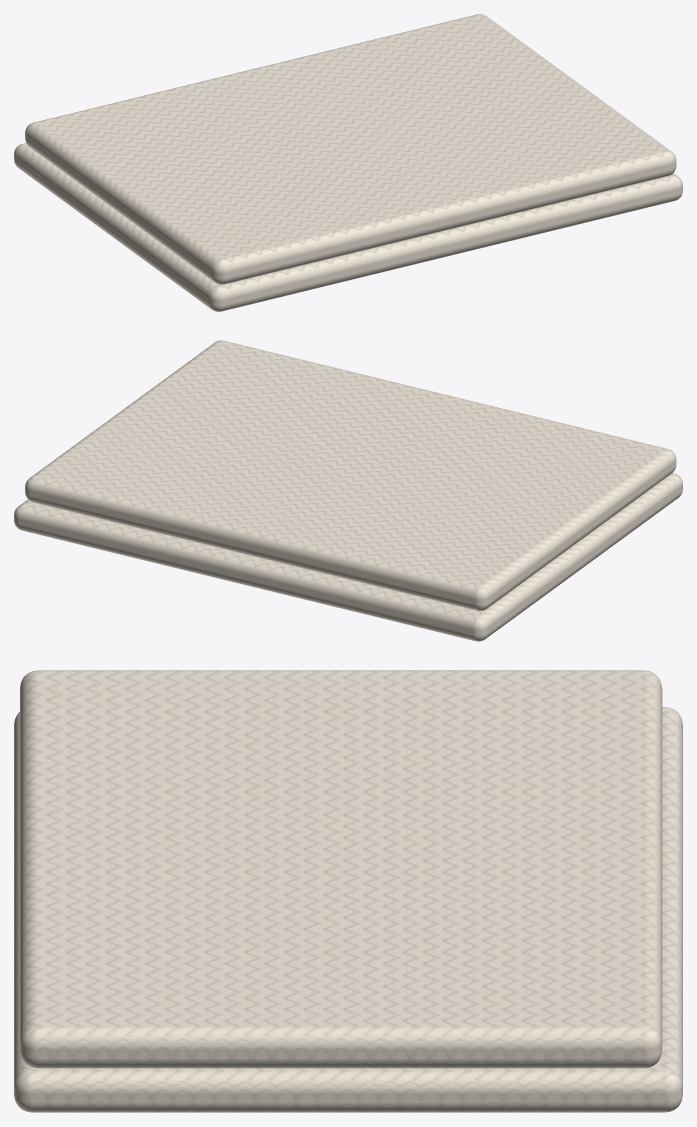
Rendered from throw-knit.glb.
3 views of the same model, one above another, from view 1: azimuth 30°, elevation 25°; view 2: azimuth 150°, elevation 25°; view 3: azimuth 270°, elevation 25° (orthographic). The views are drawn at different scales.
Visible parts, largest first — view 1: throw-knit; view 2: throw-knit; view 3: throw-knit.
Part boxes in pixels (<box>): throw-knit: <box>14,14,682,311</box>; throw-knit: <box>14,340,682,641</box>; throw-knit: <box>14,670,682,1112</box>.
Size of the model in its own units: 0.6 by 0.06 by 0.45.
Materials: 1 (1 with a texture image).
